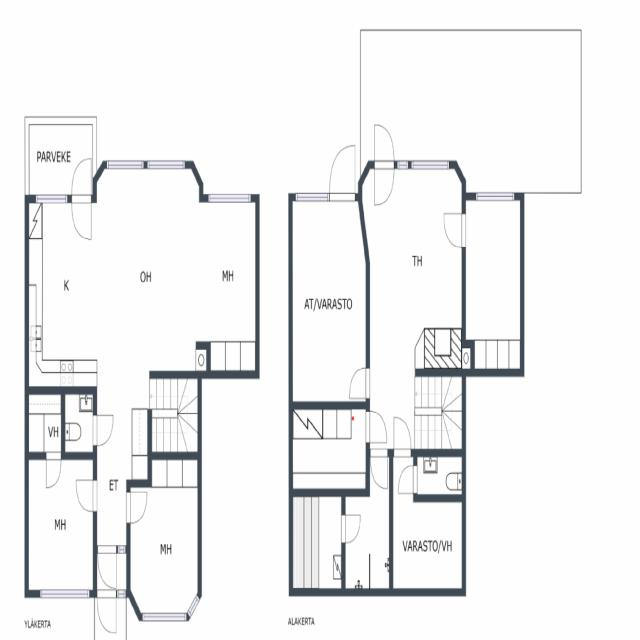door: (330, 145, 355, 200), (72, 195, 91, 240), (72, 158, 91, 203), (375, 160, 394, 204), (375, 124, 394, 168), (98, 545, 117, 587), (98, 590, 116, 632), (444, 214, 466, 247), (394, 418, 411, 457), (371, 449, 388, 488), (76, 480, 97, 511), (349, 368, 370, 398), (126, 493, 147, 523), (366, 411, 386, 442), (93, 415, 113, 445), (398, 466, 418, 493), (341, 516, 360, 542), (46, 452, 60, 486)
